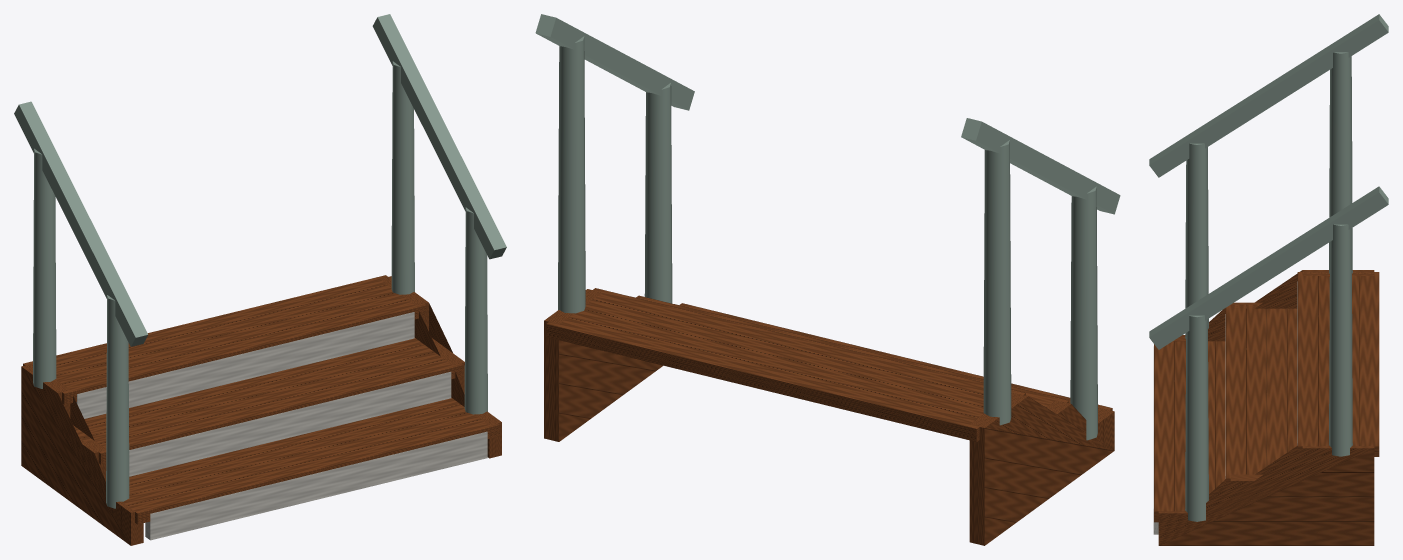
Rendered from halloween-slasher-street-porch-steps-f1c48538__27273.glb.
3 views of the same model, side by side, from view 1: azimuth 30°, elevation 25°; view 2: azimuth 150°, elevation 25°; view 3: azimuth 270°, elevation 25° (orthographic). The views are drawn at different scales.
Visible parts, largest first — view 1: porch-steps; view 2: porch-steps; view 3: porch-steps.
Part boxes in pixels (x1,y1,x2,y2): porch-steps: (14, 14, 506, 545); porch-steps: (535, 14, 1120, 545); porch-steps: (1149, 14, 1388, 545).
Bounding box in the file's own units: 1.8 × 1.63 × 0.9997.
Materials: 3 (2 with a texture image).
